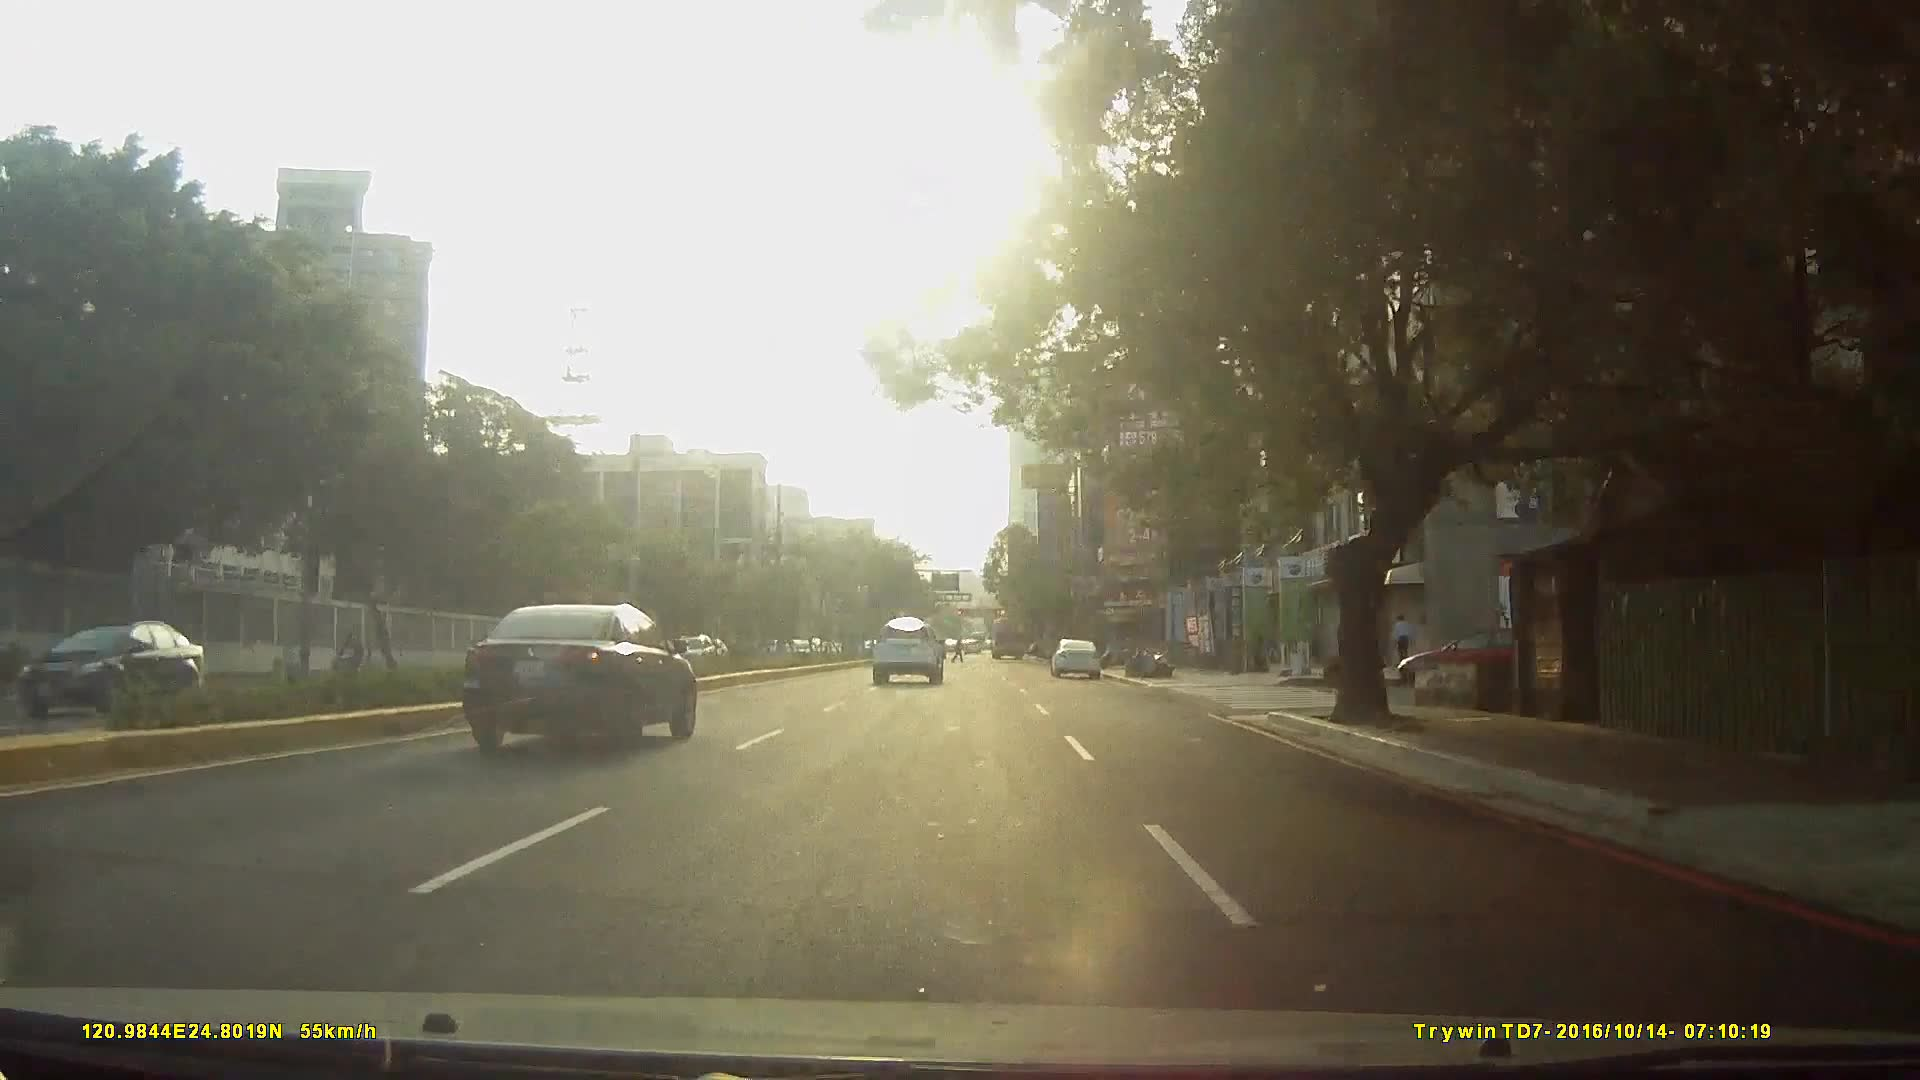pedestrian: (1393, 615, 1413, 671)
rider: (328, 632, 372, 687)
vehicle: (463, 598, 700, 751), (33, 607, 219, 727), (1392, 624, 1580, 691), (870, 616, 947, 685), (1049, 635, 1103, 677), (987, 612, 1028, 657)
